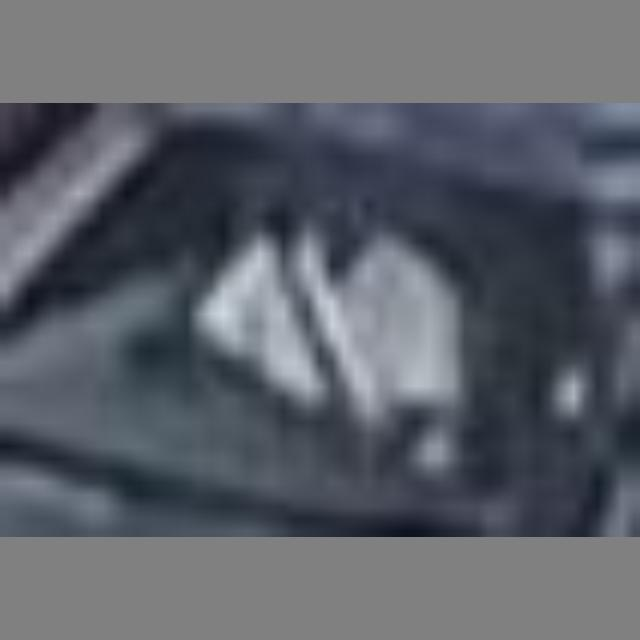pakai: (205, 175, 483, 526)
